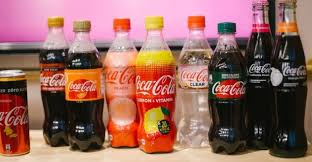coke-bottle-700ml: (208, 20, 248, 154), (67, 20, 104, 150), (41, 14, 67, 148)
coke-can: (3, 68, 28, 156)
coke-glass-bottle: (269, 1, 307, 157), (250, 1, 275, 149)
